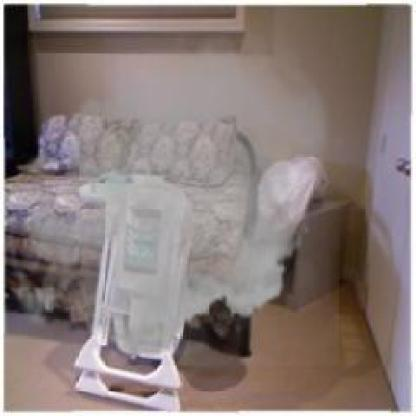Smoke: (2, 23, 338, 366)
